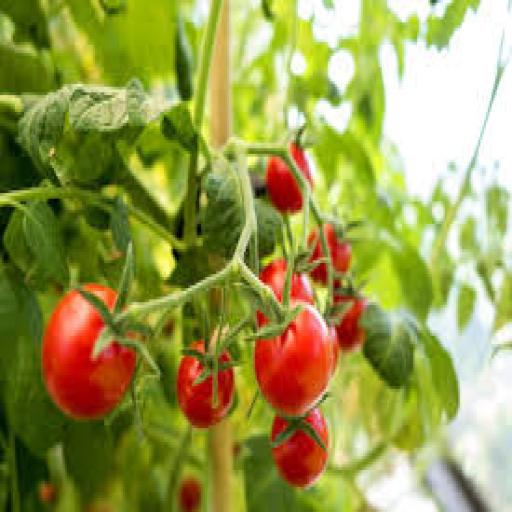tomato: (43, 291, 135, 419), (256, 303, 333, 416), (177, 356, 234, 428), (272, 431, 327, 486), (267, 157, 303, 212), (336, 294, 366, 352), (324, 224, 351, 271), (259, 258, 286, 302), (179, 476, 201, 511), (330, 325, 340, 374), (38, 482, 55, 503)
